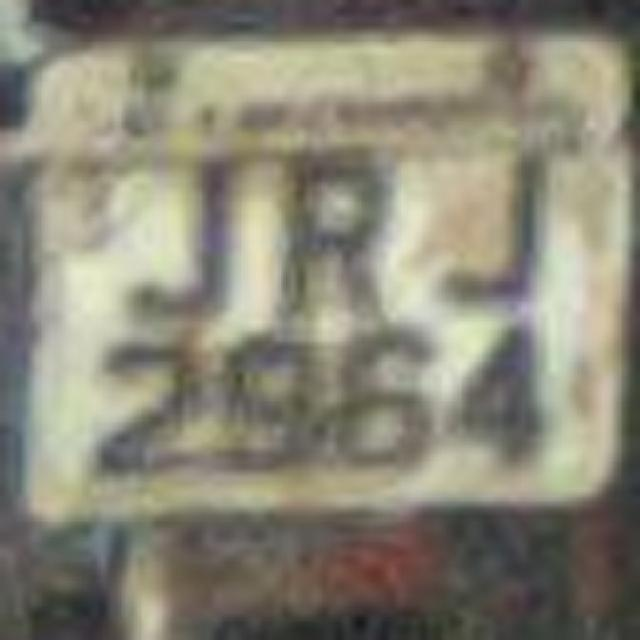2: (60, 320, 225, 512)
4: (444, 296, 564, 492)
6: (324, 312, 448, 488)
9: (200, 312, 335, 488)
J: (420, 136, 552, 309), (109, 156, 236, 332)
R: (260, 140, 400, 325)
